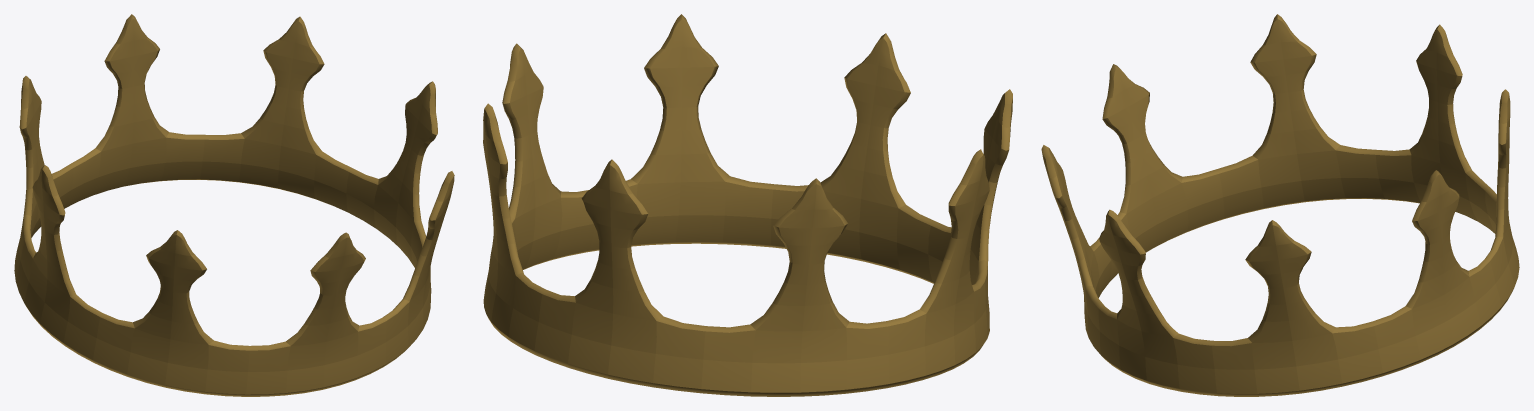
The picture shows the model from 3 angles, left to right: view 1: azimuth 30°, elevation 25°; view 2: azimuth 150°, elevation 25°; view 3: azimuth 270°, elevation 25°; orthographic projection. The views are drawn at different scales.
Parts seen in each view (by area): view 1: King_Head; view 2: King_Head; view 3: King_Head.
Boxes of the visible parts, x1=… form: King_Head: x1=14, y1=14, x2=454, y2=396; King_Head: x1=483, y1=14, x2=1012, y2=396; King_Head: x1=1041, y1=14, x2=1519, y2=396.
Bounding box in the file's own units: 2.05 × 2.07 × 1.15.
